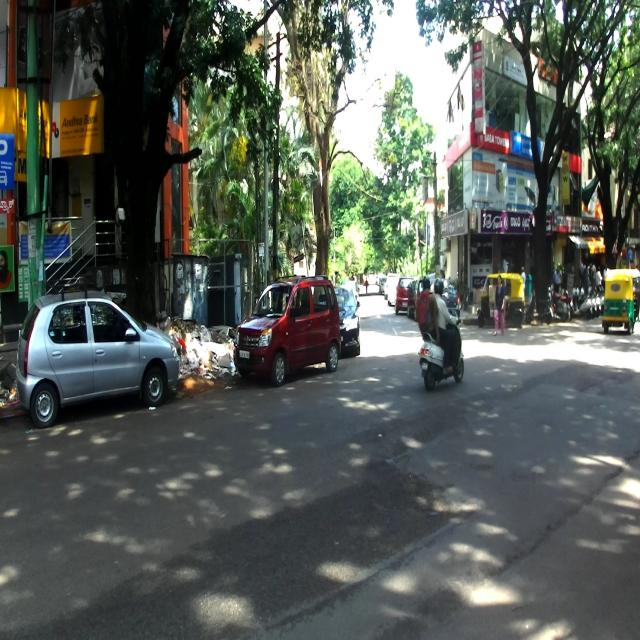car: (14, 290, 180, 426), (233, 274, 341, 385)
scooter: (418, 315, 464, 391)
